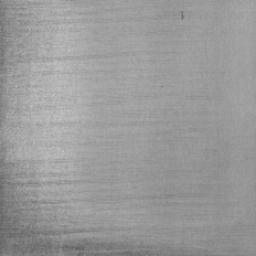Waist folding: (0, 0, 230, 256), (148, 190, 188, 207), (154, 8, 190, 21), (99, 175, 120, 184)
